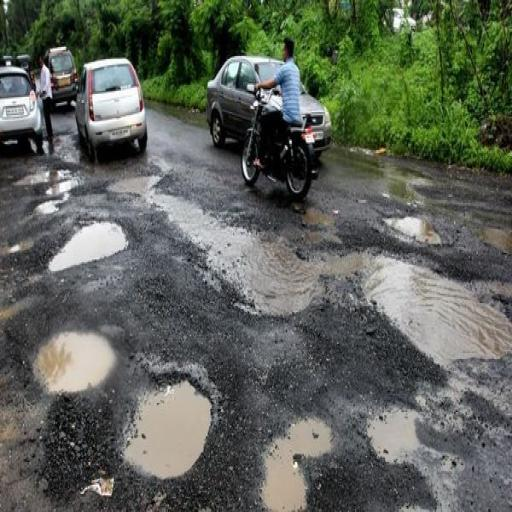pothole: (138, 168, 503, 361), (243, 369, 489, 493), (131, 356, 238, 512), (24, 160, 126, 300), (26, 316, 122, 434)
